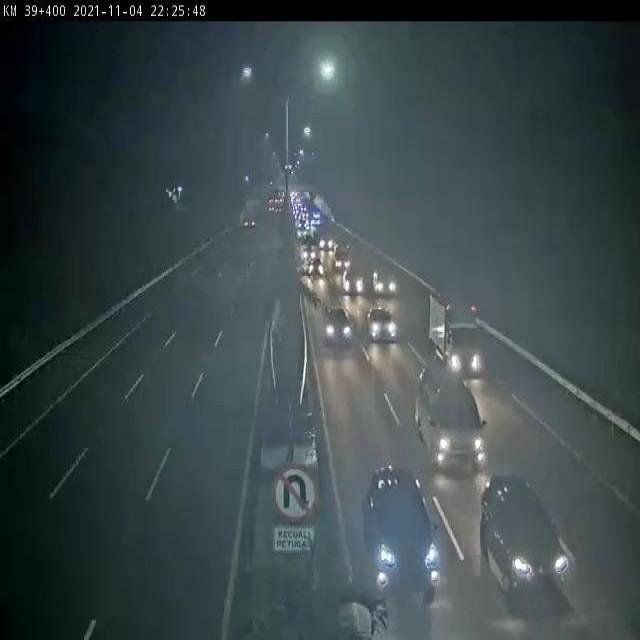car: (478, 476, 581, 621), (353, 464, 443, 605), (409, 362, 485, 474), (365, 304, 398, 351), (322, 304, 352, 348), (372, 268, 403, 305), (345, 268, 371, 305), (331, 245, 354, 275), (308, 253, 323, 283)
truck-s-: (425, 291, 490, 405)
